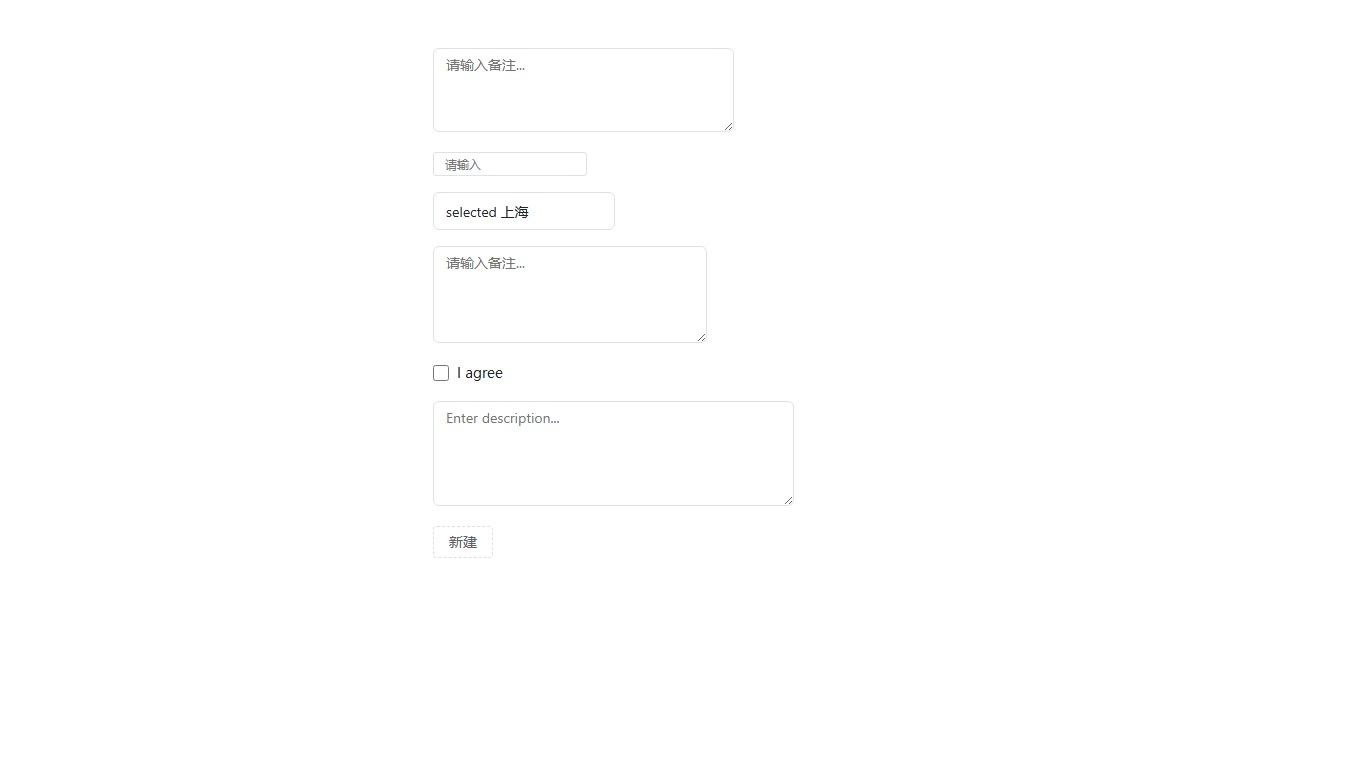button: (433, 525, 493, 558)
checkbox: (433, 365, 449, 380)
icon: (457, 363, 503, 382)
input: (433, 152, 587, 176)
radio: (433, 363, 503, 382)
select: (433, 192, 615, 230)
textarea: (433, 401, 794, 506), (433, 246, 707, 343), (433, 48, 734, 132)
